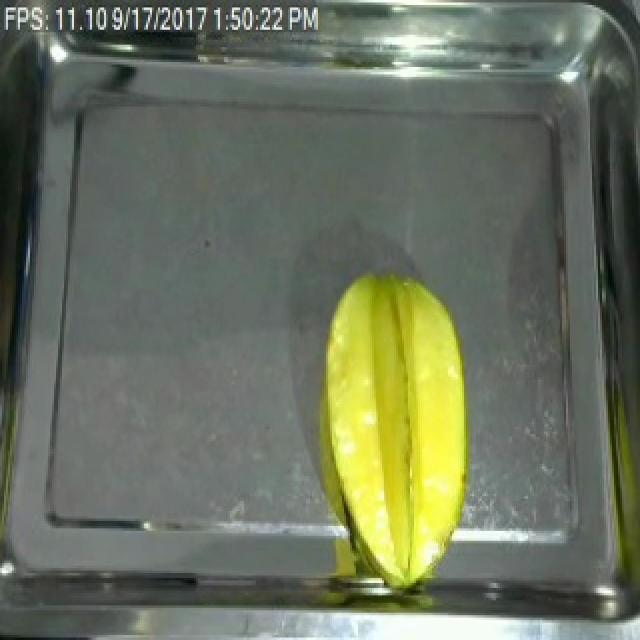fruit: (310, 263, 480, 603)
